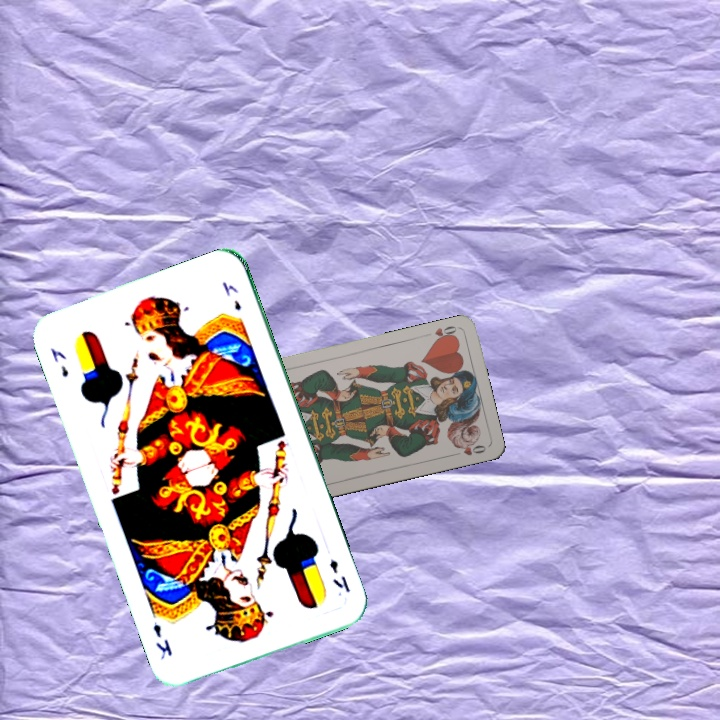EK: (325, 555, 353, 595), (47, 343, 71, 380)
HO: (430, 322, 461, 344)
